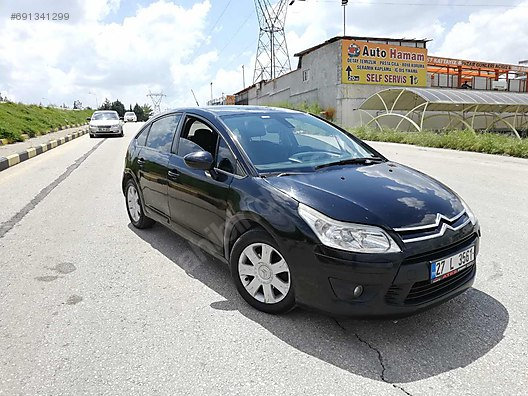citroen: (121, 99, 478, 321)
